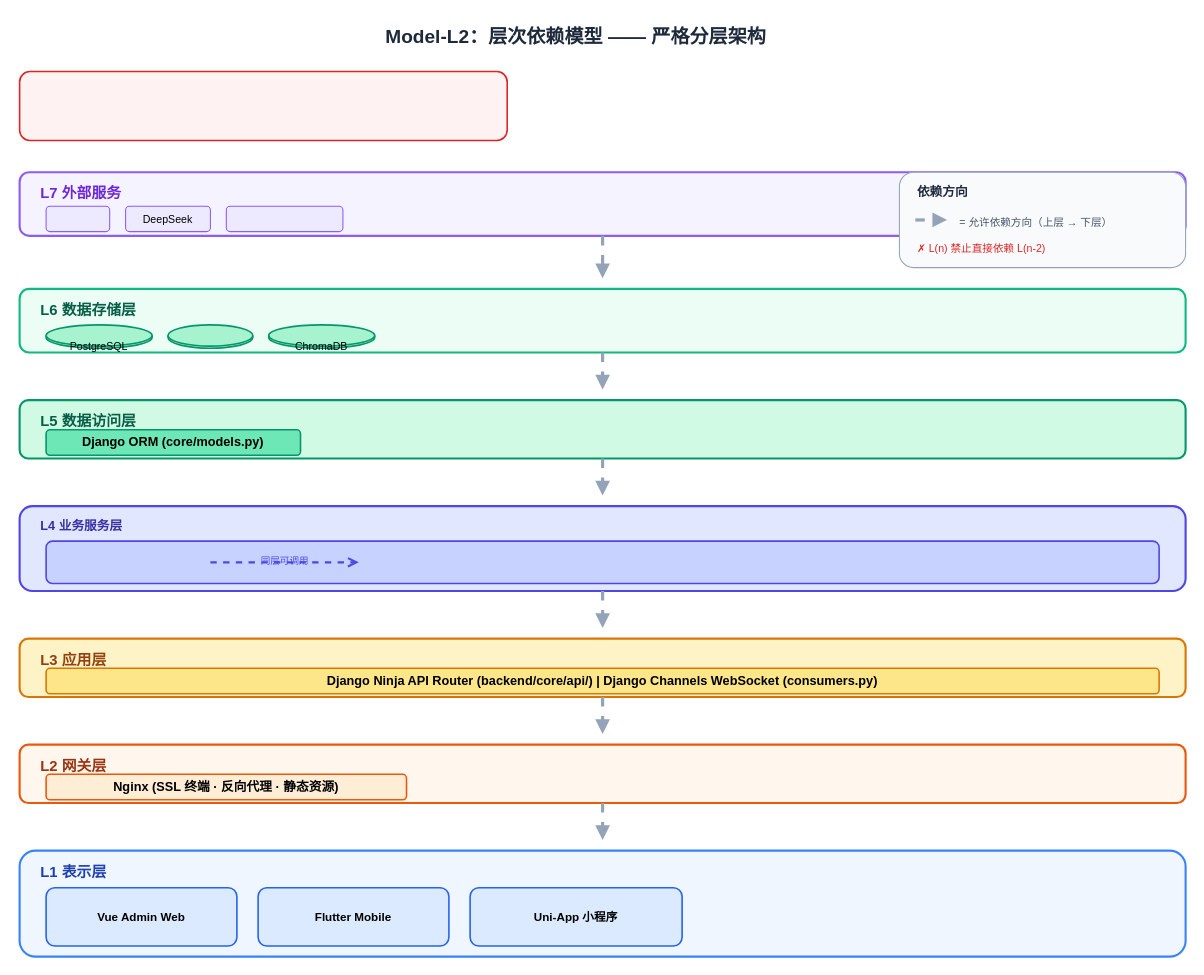
The diagram is 1204 pixels wide and 975 high, and some of its shapes have lost their labels. Each missing label, with the box of its shape:
BGE Embedding: (225, 205, 343, 232)
COS: (45, 205, 110, 232)
Redis: (167, 324, 253, 349)
架构约束 1. 上层依赖下层，禁止反向依赖 2. 同层组件间可互相调用 3. 跨层调用必须经过相邻层: (18, 70, 508, 141)
认证服务 | 商品服务 | 订单服务 | 聊天服务 | 论坛服务 | 通知服务 | RAG推荐 | 上传服务: (45, 540, 1159, 584)
